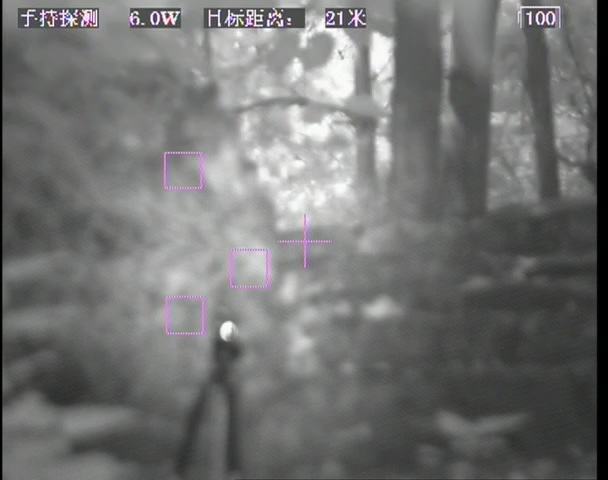my: (214, 317, 242, 341)
